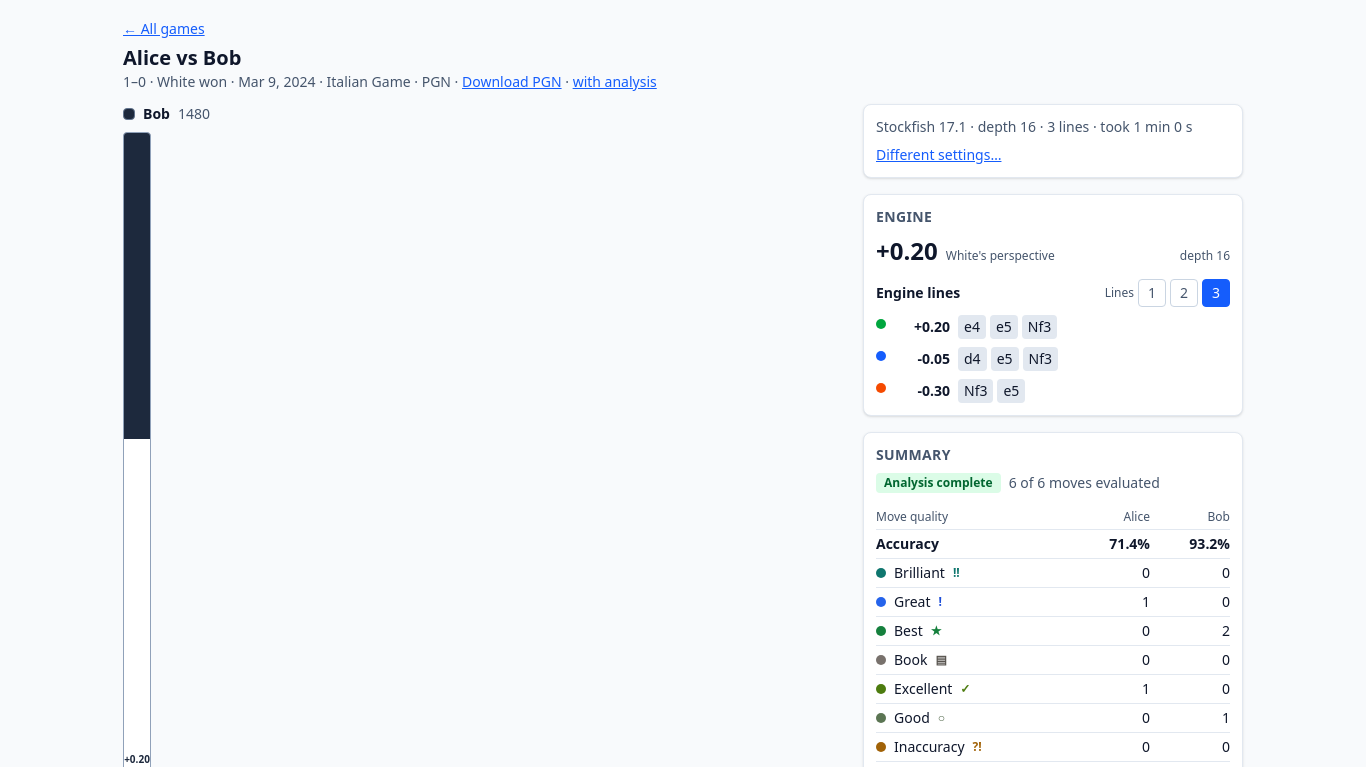
Test: several engine lines › playing an engine line from the list starts a local variation
Expected: the element with test id "engine-panel" is shown, left=876, top=235, right=1230, bottom=403
Click the button "d4": (972,359) left=958, top=347, right=987, bottom=371
(page scrolled)
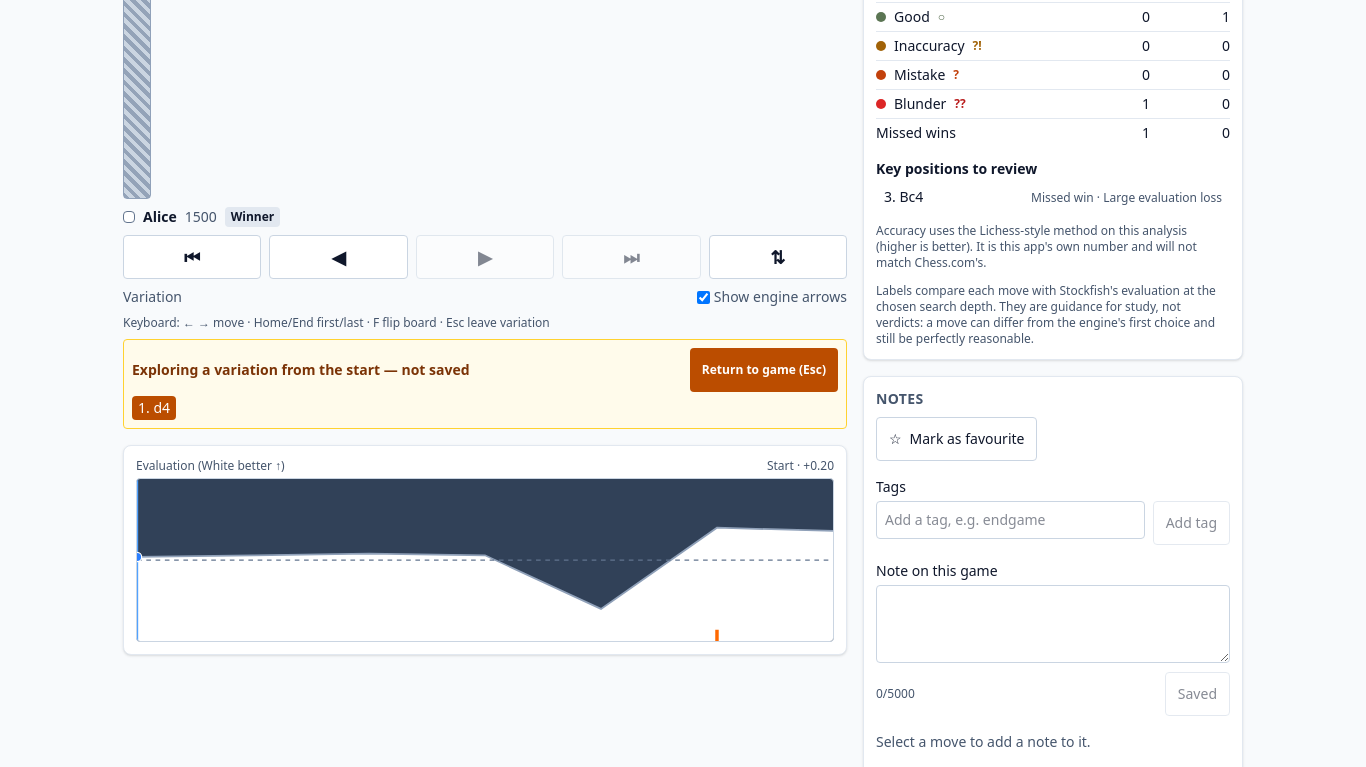
Result: the message with test id "variation-banner" shows "1. d4" at left=132, top=396, right=176, bottom=420
